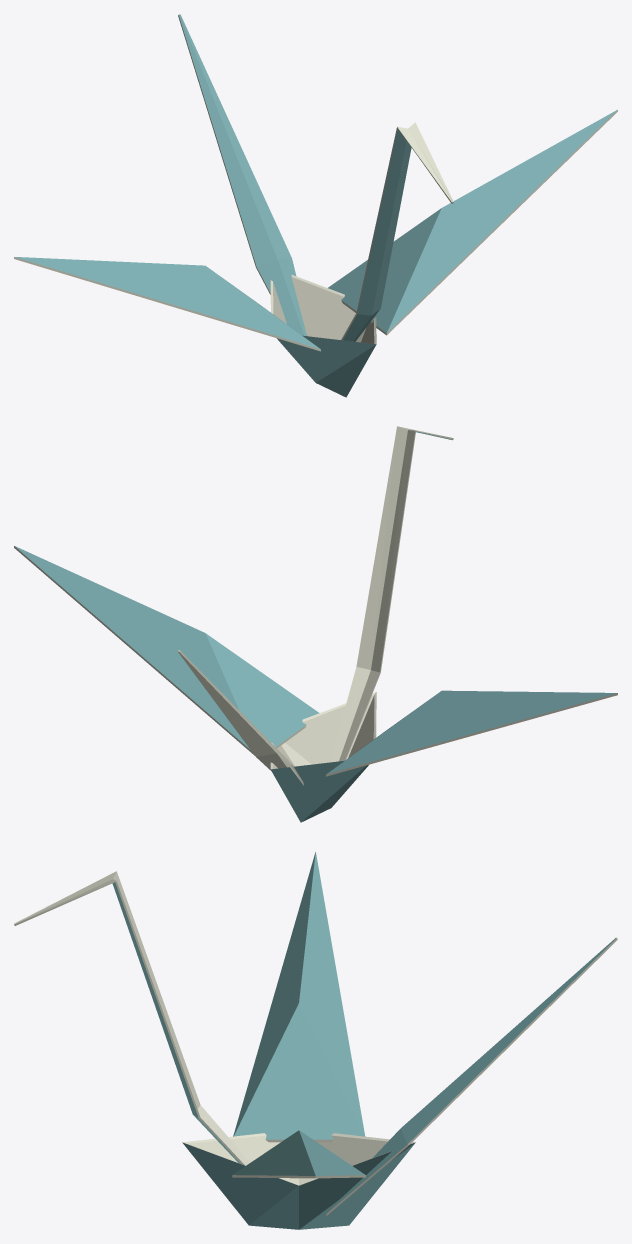
3 views of the same model, one above another, from view 1: azimuth 30°, elevation 25°; view 2: azimuth 150°, elevation 25°; view 3: azimuth 270°, elevation 25° (orthographic). The views are drawn at different scales.
Parts seen in each view (by area): view 1: WholeFoldedWing1, WholeFoldedWing-1, WholeElevatedFoldedTail, WholeHollowCreasedBody, WholeFoldedNeckAndBentBeak; view 2: WholeFoldedWing1, WholeFoldedWing-1, WholeFoldedNeckAndBentBeak, WholeHollowCreasedBody, WholeElevatedFoldedTail; view 3: WholeFoldedWing-1, WholeHollowCreasedBody, WholeElevatedFoldedTail, WholeFoldedNeckAndBentBeak, WholeFoldedWing1.
Boxes of the visible parts, x1,y1,x2,y2 form: WholeFoldedWing1: (328,109,617,335); WholeFoldedWing-1: (14,257,320,351); WholeElevatedFoldedTail: (178,14,306,335); WholeHollowCreasedBody: (270,275,376,397); WholeFoldedNeckAndBentBeak: (341,122,453,341); WholeFoldedWing1: (14,546,319,755); WholeFoldedWing-1: (326,690,617,776); WholeFoldedNeckAndBentBeak: (330,426,453,762); WholeHollowCreasedBody: (270,692,376,822); WholeElevatedFoldedTail: (178,650,303,785); WholeFoldedWing-1: (233,852,365,1142); WholeHollowCreasedBody: (182,1133,415,1229); WholeElevatedFoldedTail: (326,937,617,1216); WholeFoldedNeckAndBentBeak: (14,871,250,1165); WholeFoldedWing1: (232,1130,365,1178).
Size of the model in its own units: 0.46 by 0.2308 by 0.3614.
